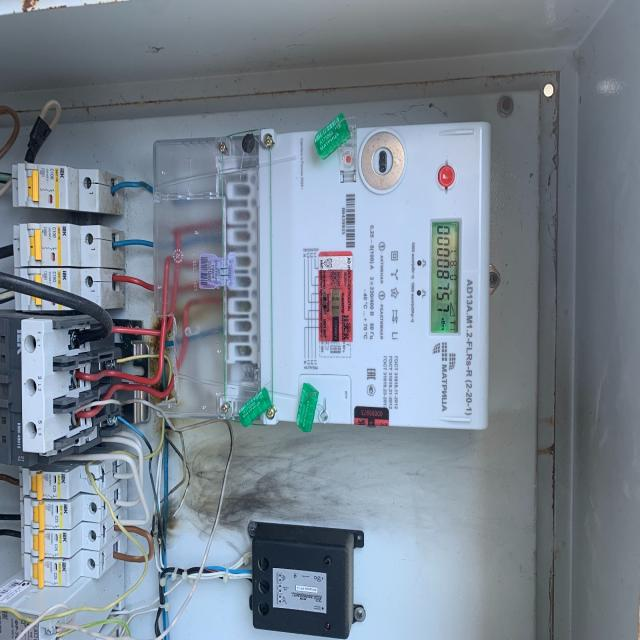Display: (427, 213, 460, 336)
meter_matrica: (184, 124, 513, 452)
meter_number: (337, 190, 364, 251)
seal_elso: (195, 250, 240, 292)
seal_imp: (318, 255, 354, 342)
